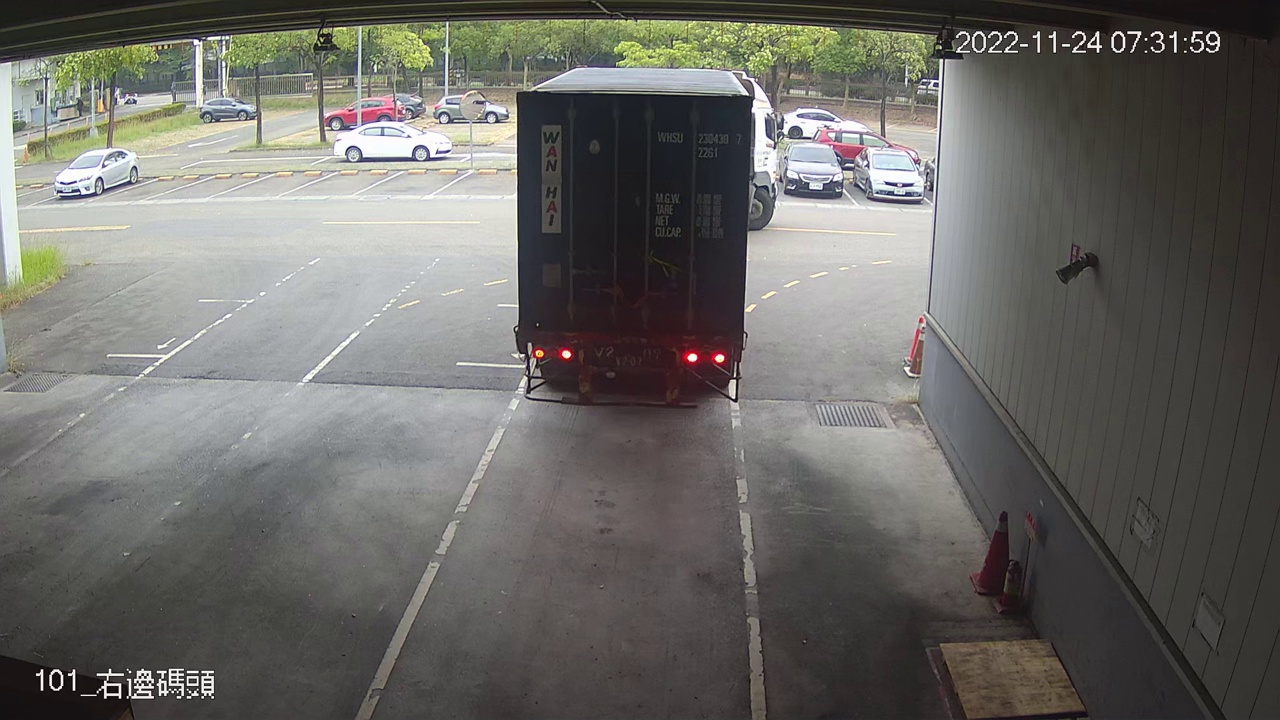container: (652, 126, 747, 163)
